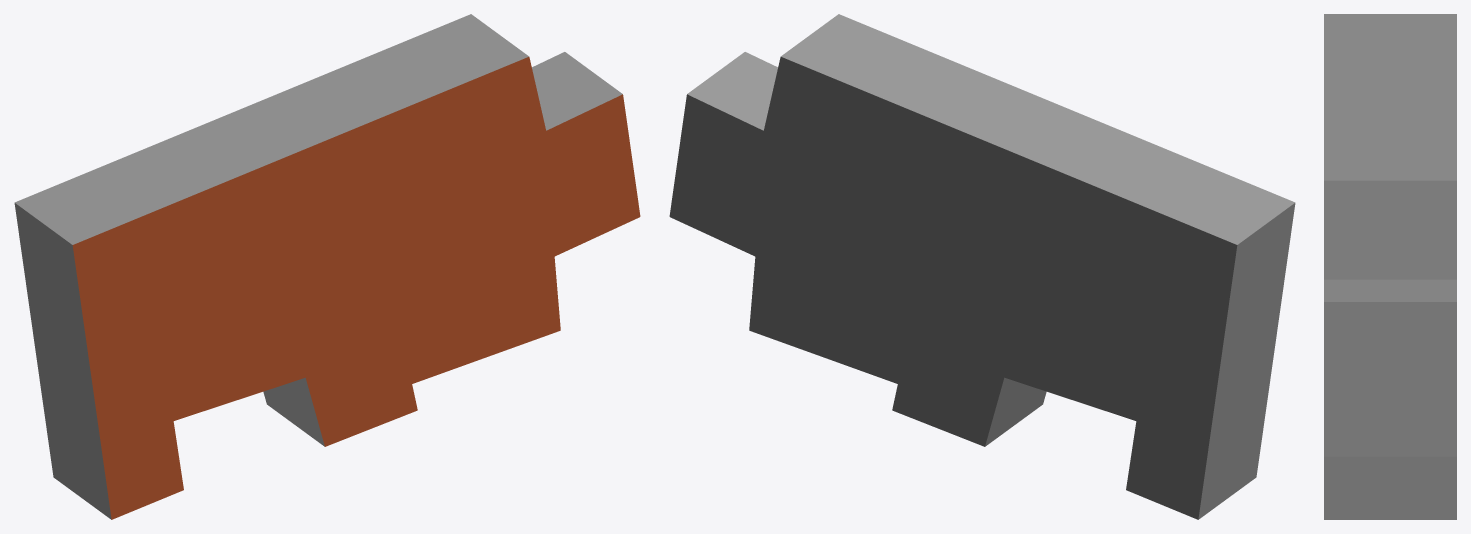
File: construction_3475_assumed_A_Igreja_matriz_h6m.obj
The picture shows the model from 3 angles, left to right: view 1: azimuth 30°, elevation 25°; view 2: azimuth 150°, elevation 25°; view 3: azimuth 270°, elevation 25°; orthographic projection. The views are drawn at different scales.
Visible parts, largest first — view 1: construction_3475_assumed_A_Igreja_matriz; view 2: construction_3475_assumed_A_Igreja_matriz; view 3: construction_3475_assumed_A_Igreja_matriz.
Boxes of the visible parts, bbox=[...] form: construction_3475_assumed_A_Igreja_matriz: bbox=[14, 14, 640, 519]; construction_3475_assumed_A_Igreja_matriz: bbox=[669, 14, 1295, 519]; construction_3475_assumed_A_Igreja_matriz: bbox=[1324, 14, 1456, 519].
Size of the model in its own units: 33.83 by 20.58 by 6.
